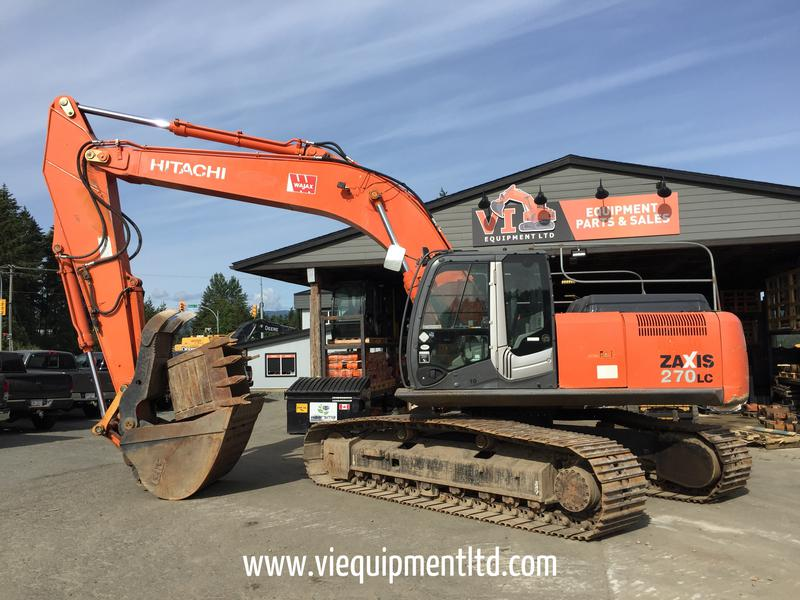shovel: (35, 84, 762, 550)
